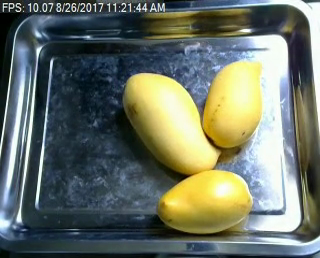Mango: (123, 71, 219, 172), (157, 170, 252, 236), (202, 61, 262, 148)
